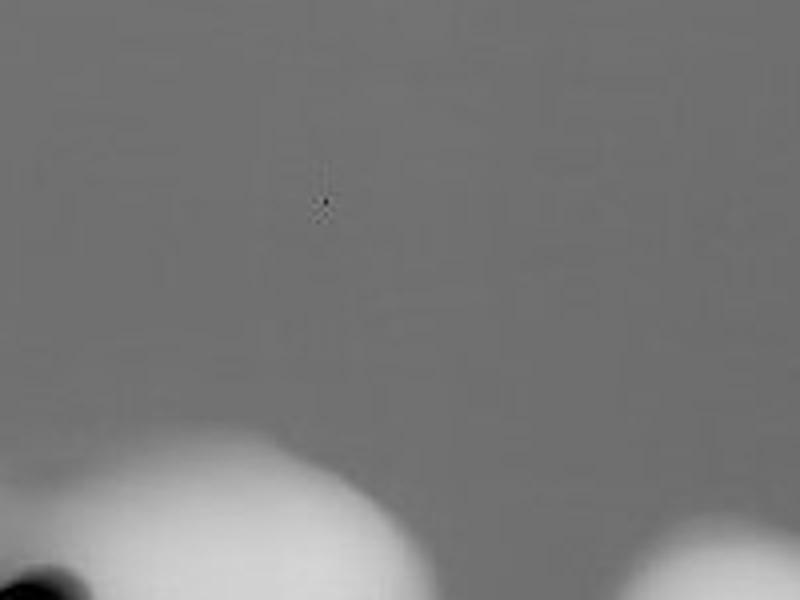defect: (4, 567, 98, 598)
